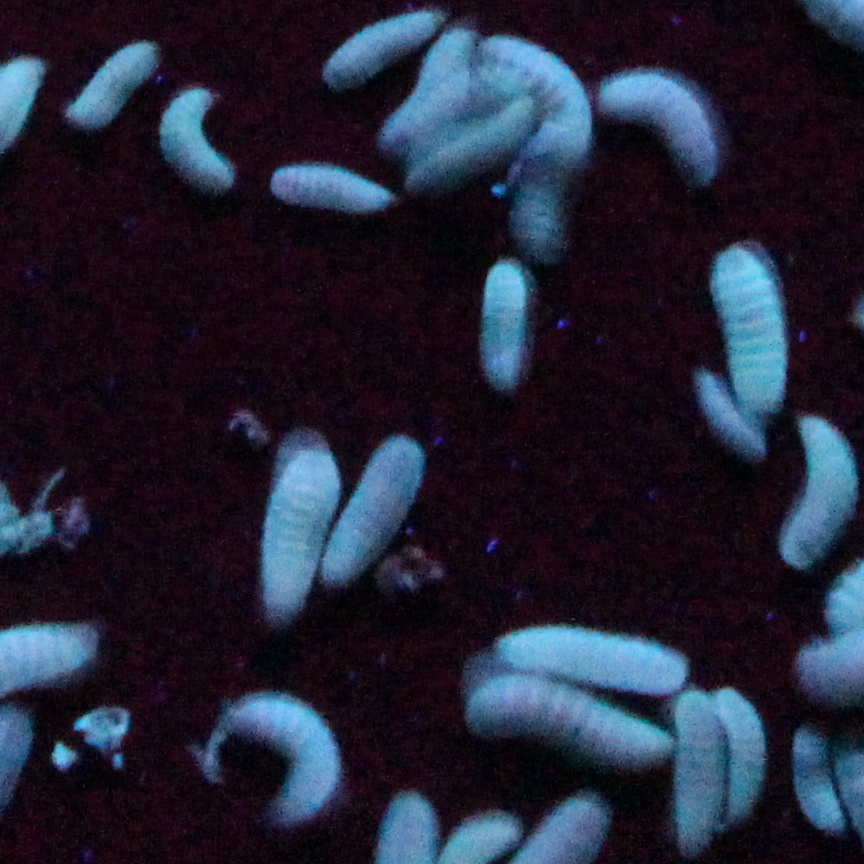larve: (319, 438, 425, 584), (214, 698, 331, 830), (248, 447, 339, 610), (477, 690, 677, 764), (762, 416, 857, 553), (591, 76, 714, 178), (714, 250, 779, 413), (505, 630, 677, 690), (660, 693, 722, 849), (57, 38, 154, 133), (319, 13, 428, 96), (528, 107, 582, 256), (715, 682, 768, 831), (476, 267, 535, 397), (157, 87, 228, 193), (274, 167, 402, 224)
